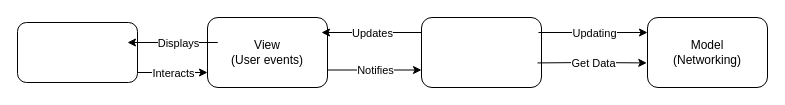
Image size: 785x105. Some labels were removed from this diagram. Here are the shapes that lost their labels. From the top down, the centre of each, then its label:
[77,52]: Client
[481,52]: Presenter (Routing)
